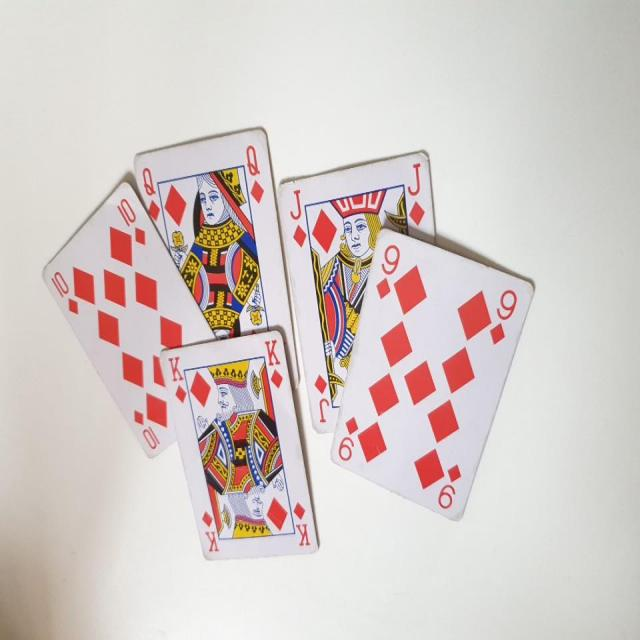10 Diamonds: (41, 180, 217, 462)
9 Diamonds: (329, 228, 536, 526)
J Diamonds: (275, 149, 438, 434)
K Diamonds: (158, 330, 321, 562)
Q Diamonds: (132, 126, 301, 387)
